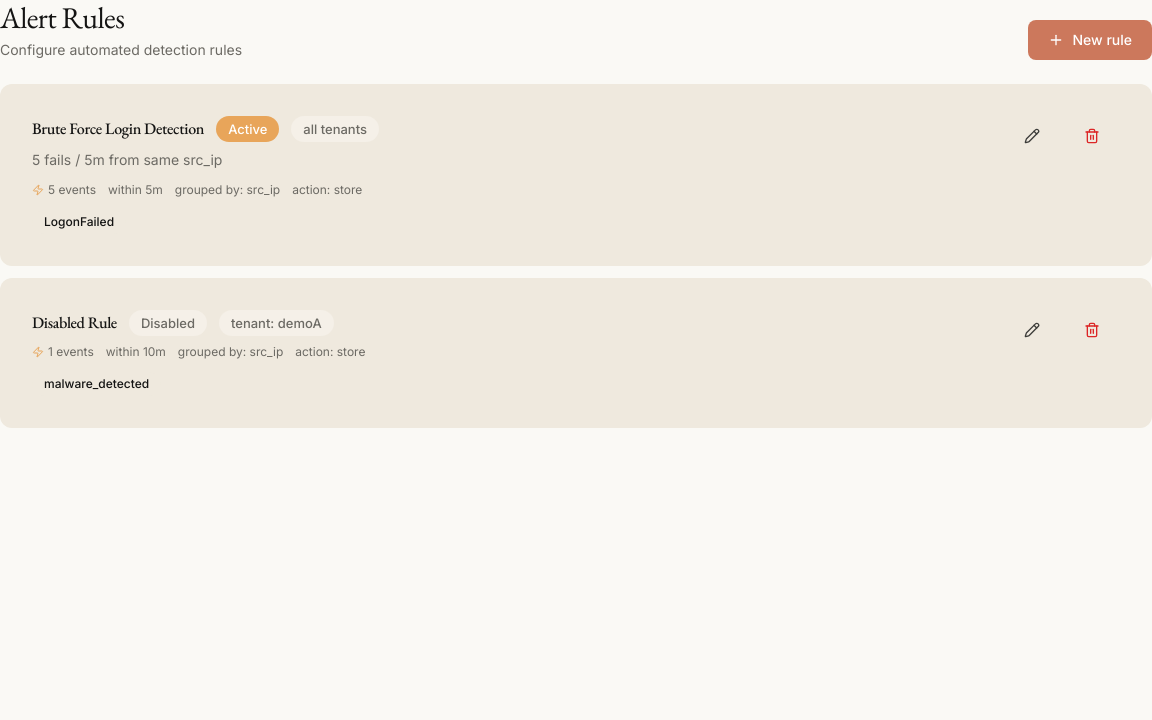
Test case: AlertRules Page — delete flow › opens a confirmation modal showing the rule name when Delete is clicked
Expected: the heading "Brute Force Login Detection" is shown, [32, 117, 204, 141]
Click the button named "Delete rule" in the row of "all tenants": (1092, 136) [1064, 116, 1120, 156]
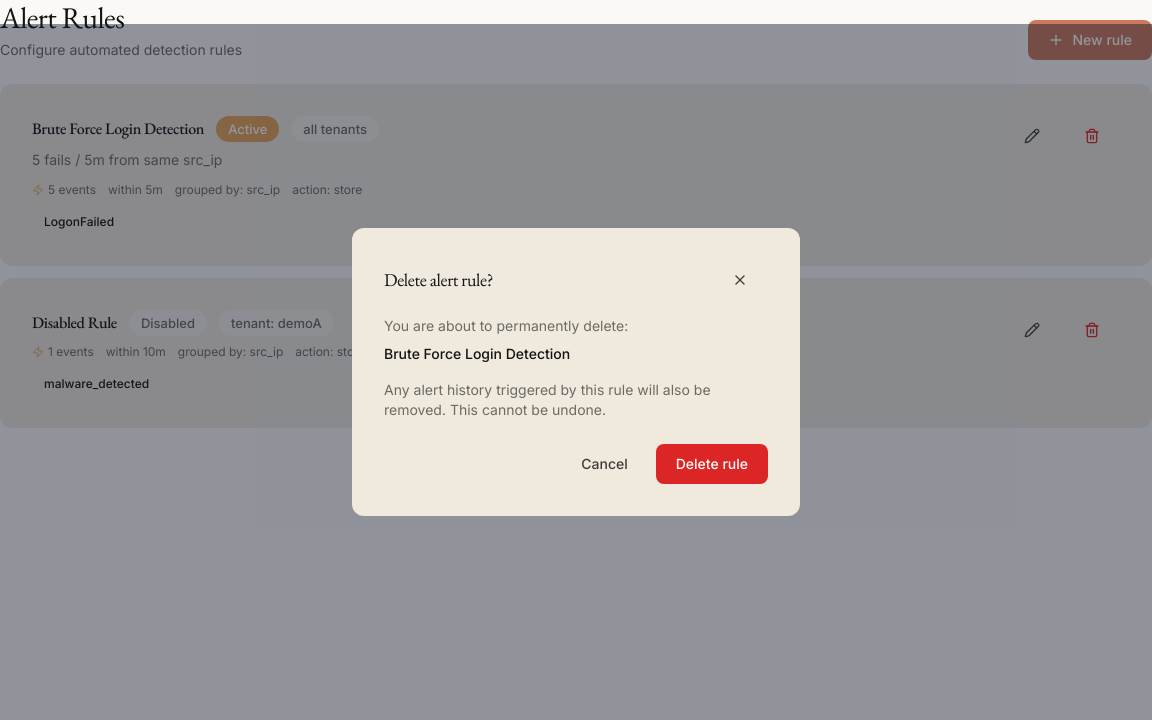
Result: the dialog shows "Delete alert rule?" at [384, 268, 493, 291]
Result: the dialog shows "Brute Force Login Detection" at [384, 345, 570, 362]
Result: the dialog shows "Cancel" at [561, 444, 648, 484]
